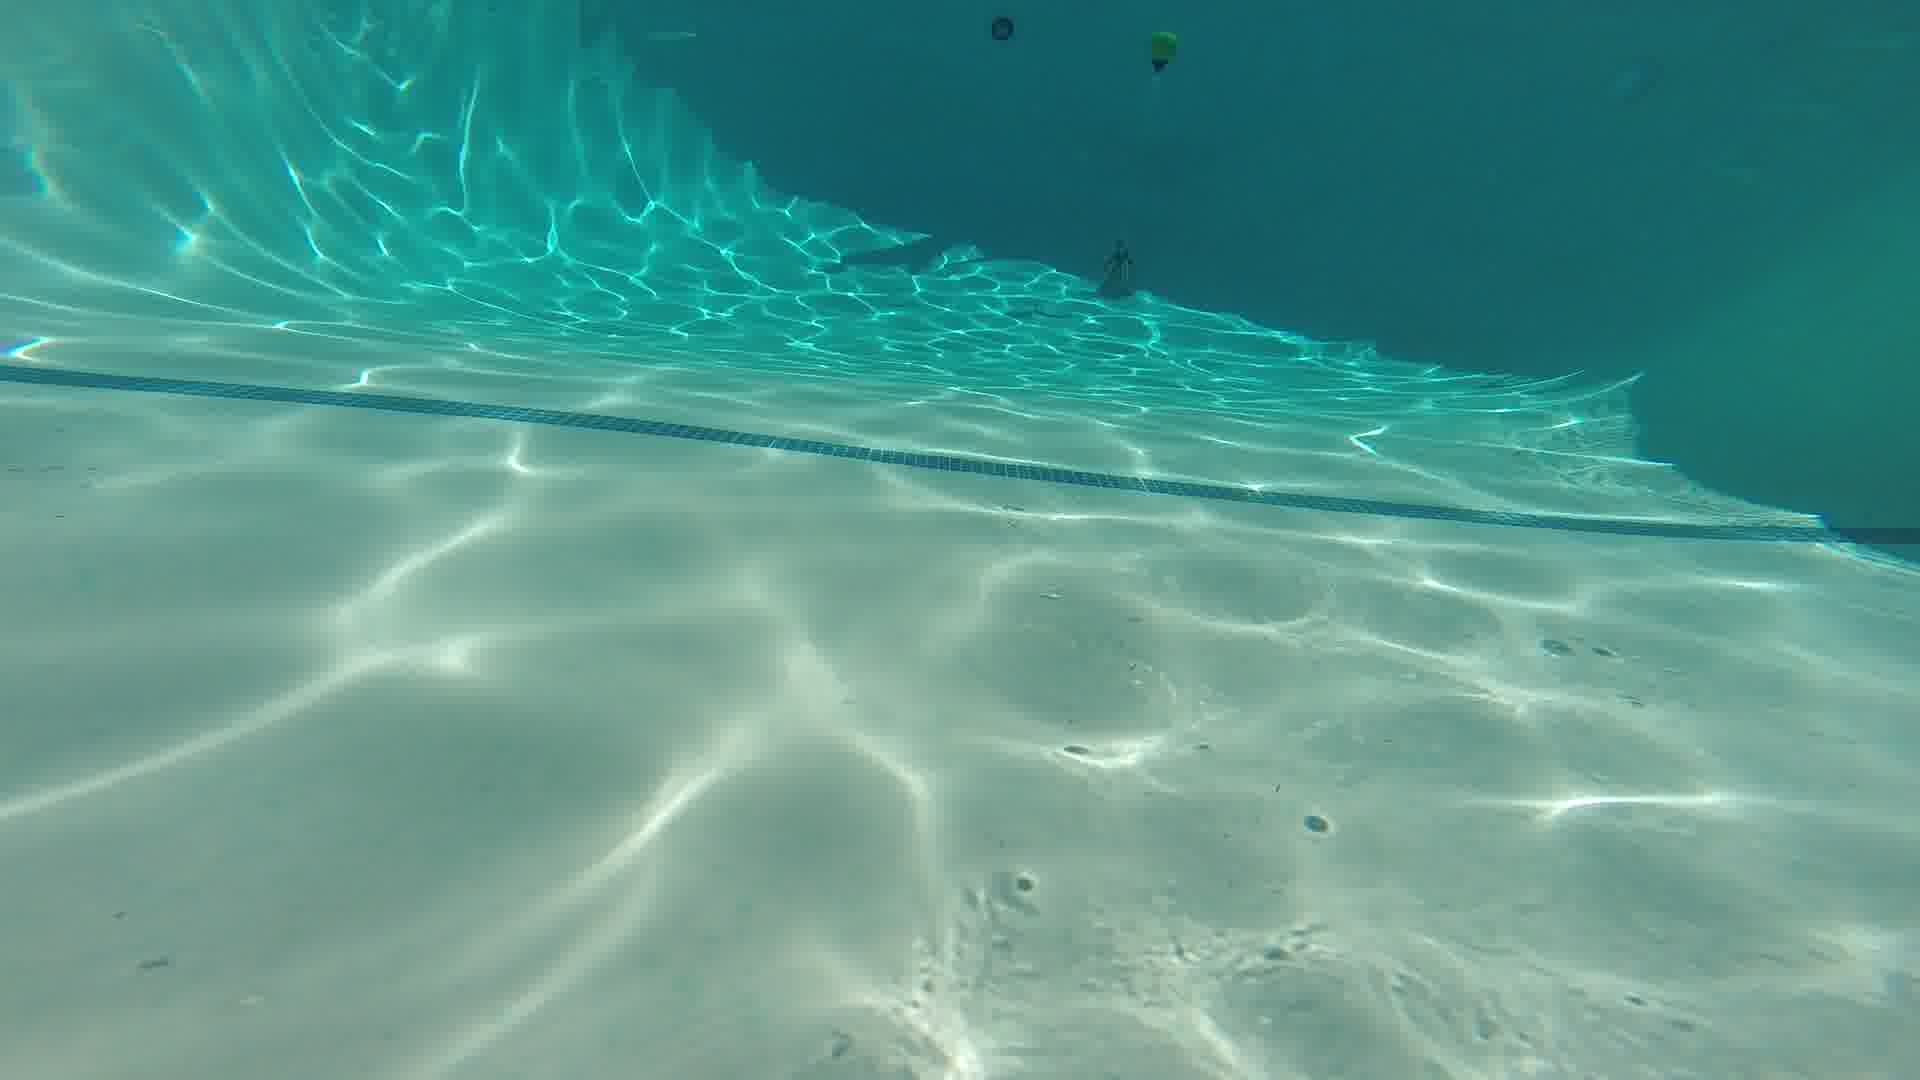yellow_buoy: (1143, 26, 1180, 83)
